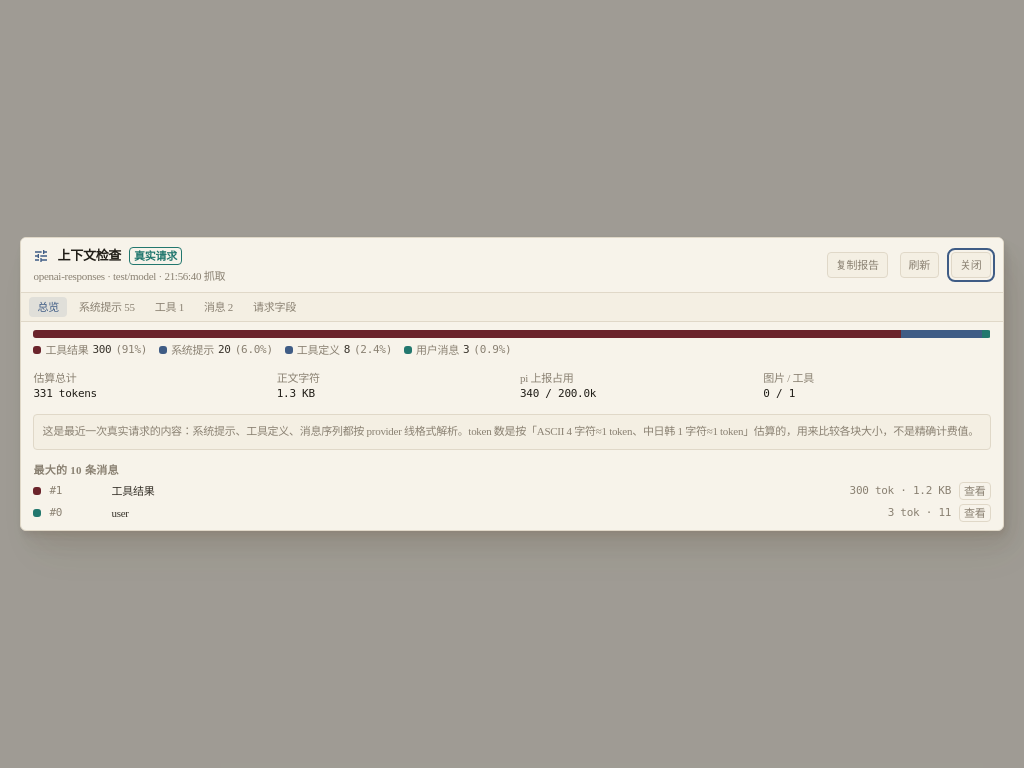
Test: ContextInspector › 系统提示标签页按块给出字符数，并能读到正文
Step 1. Click the button "系统提示 55" → (107,307), box [71, 297, 143, 317]
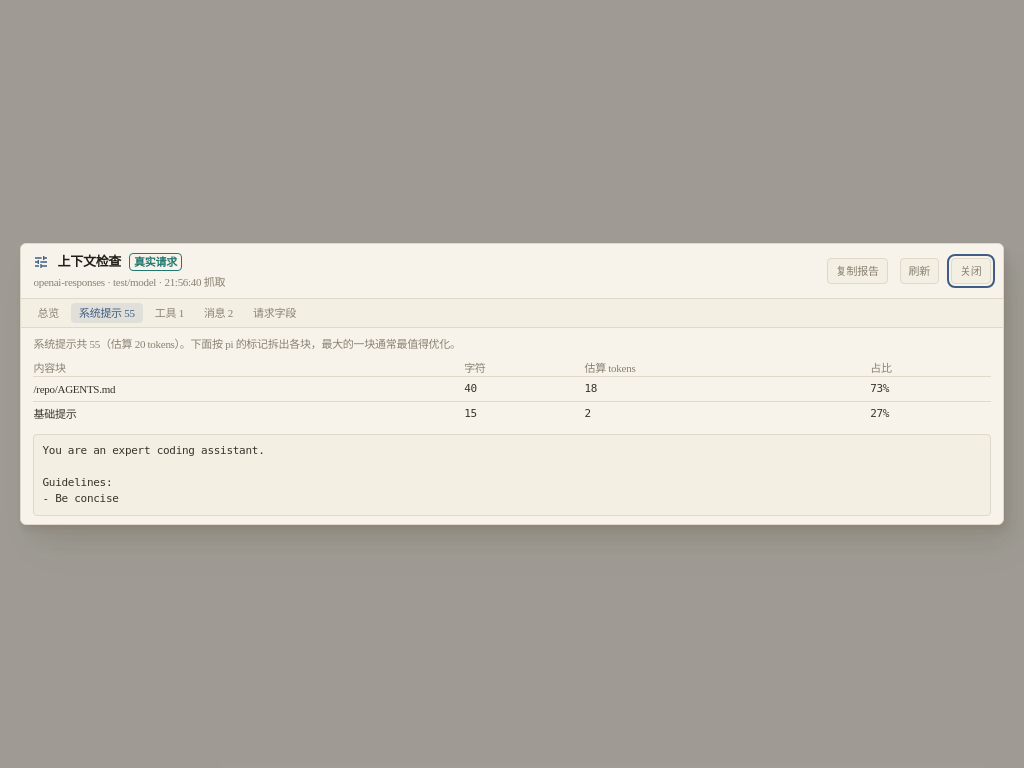
Check: the text "/repo/AGENTS.md" is shown, box [34, 376, 464, 402]
Check: the text "基础提示" is shown, box [34, 402, 464, 426]
Check: the text "You are an expert coding assistant. Guidelines: - Be concise" is shown, box [34, 434, 990, 516]
